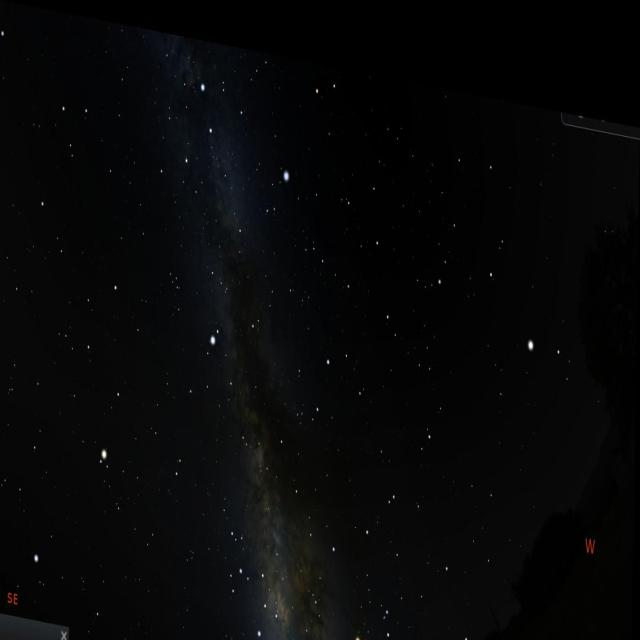aquila: (174, 267, 272, 454)
bootes: (455, 124, 577, 383)
cygnus: (178, 66, 248, 257)
lyra: (256, 152, 293, 218)
sagittarius: (222, 514, 293, 640)
scorpius: (277, 543, 409, 640)
